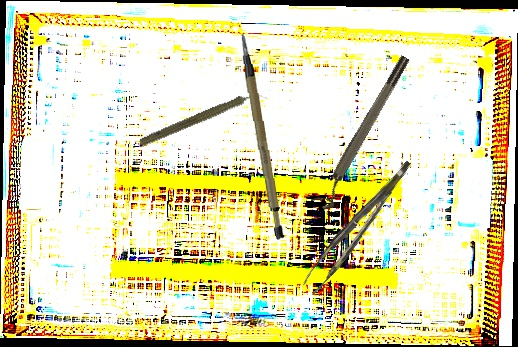Fixation Ring: (310, 53, 419, 213)
Handpiece: (137, 84, 269, 152)
Scalpel Handle: (240, 30, 287, 241)
Tissue Forceps: (294, 160, 426, 296)
